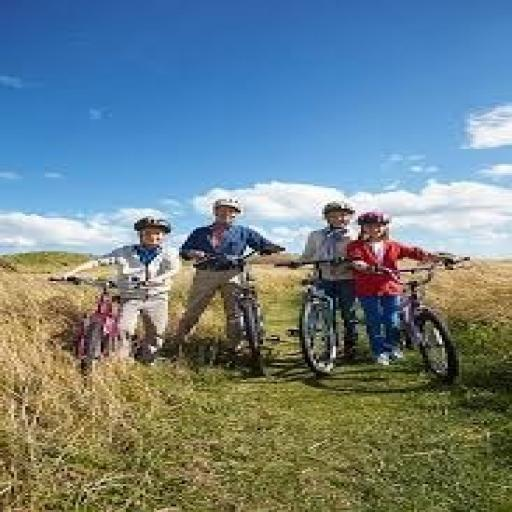cycling: (162, 195, 291, 367), (50, 214, 185, 369), (341, 208, 459, 368), (286, 199, 366, 365)
